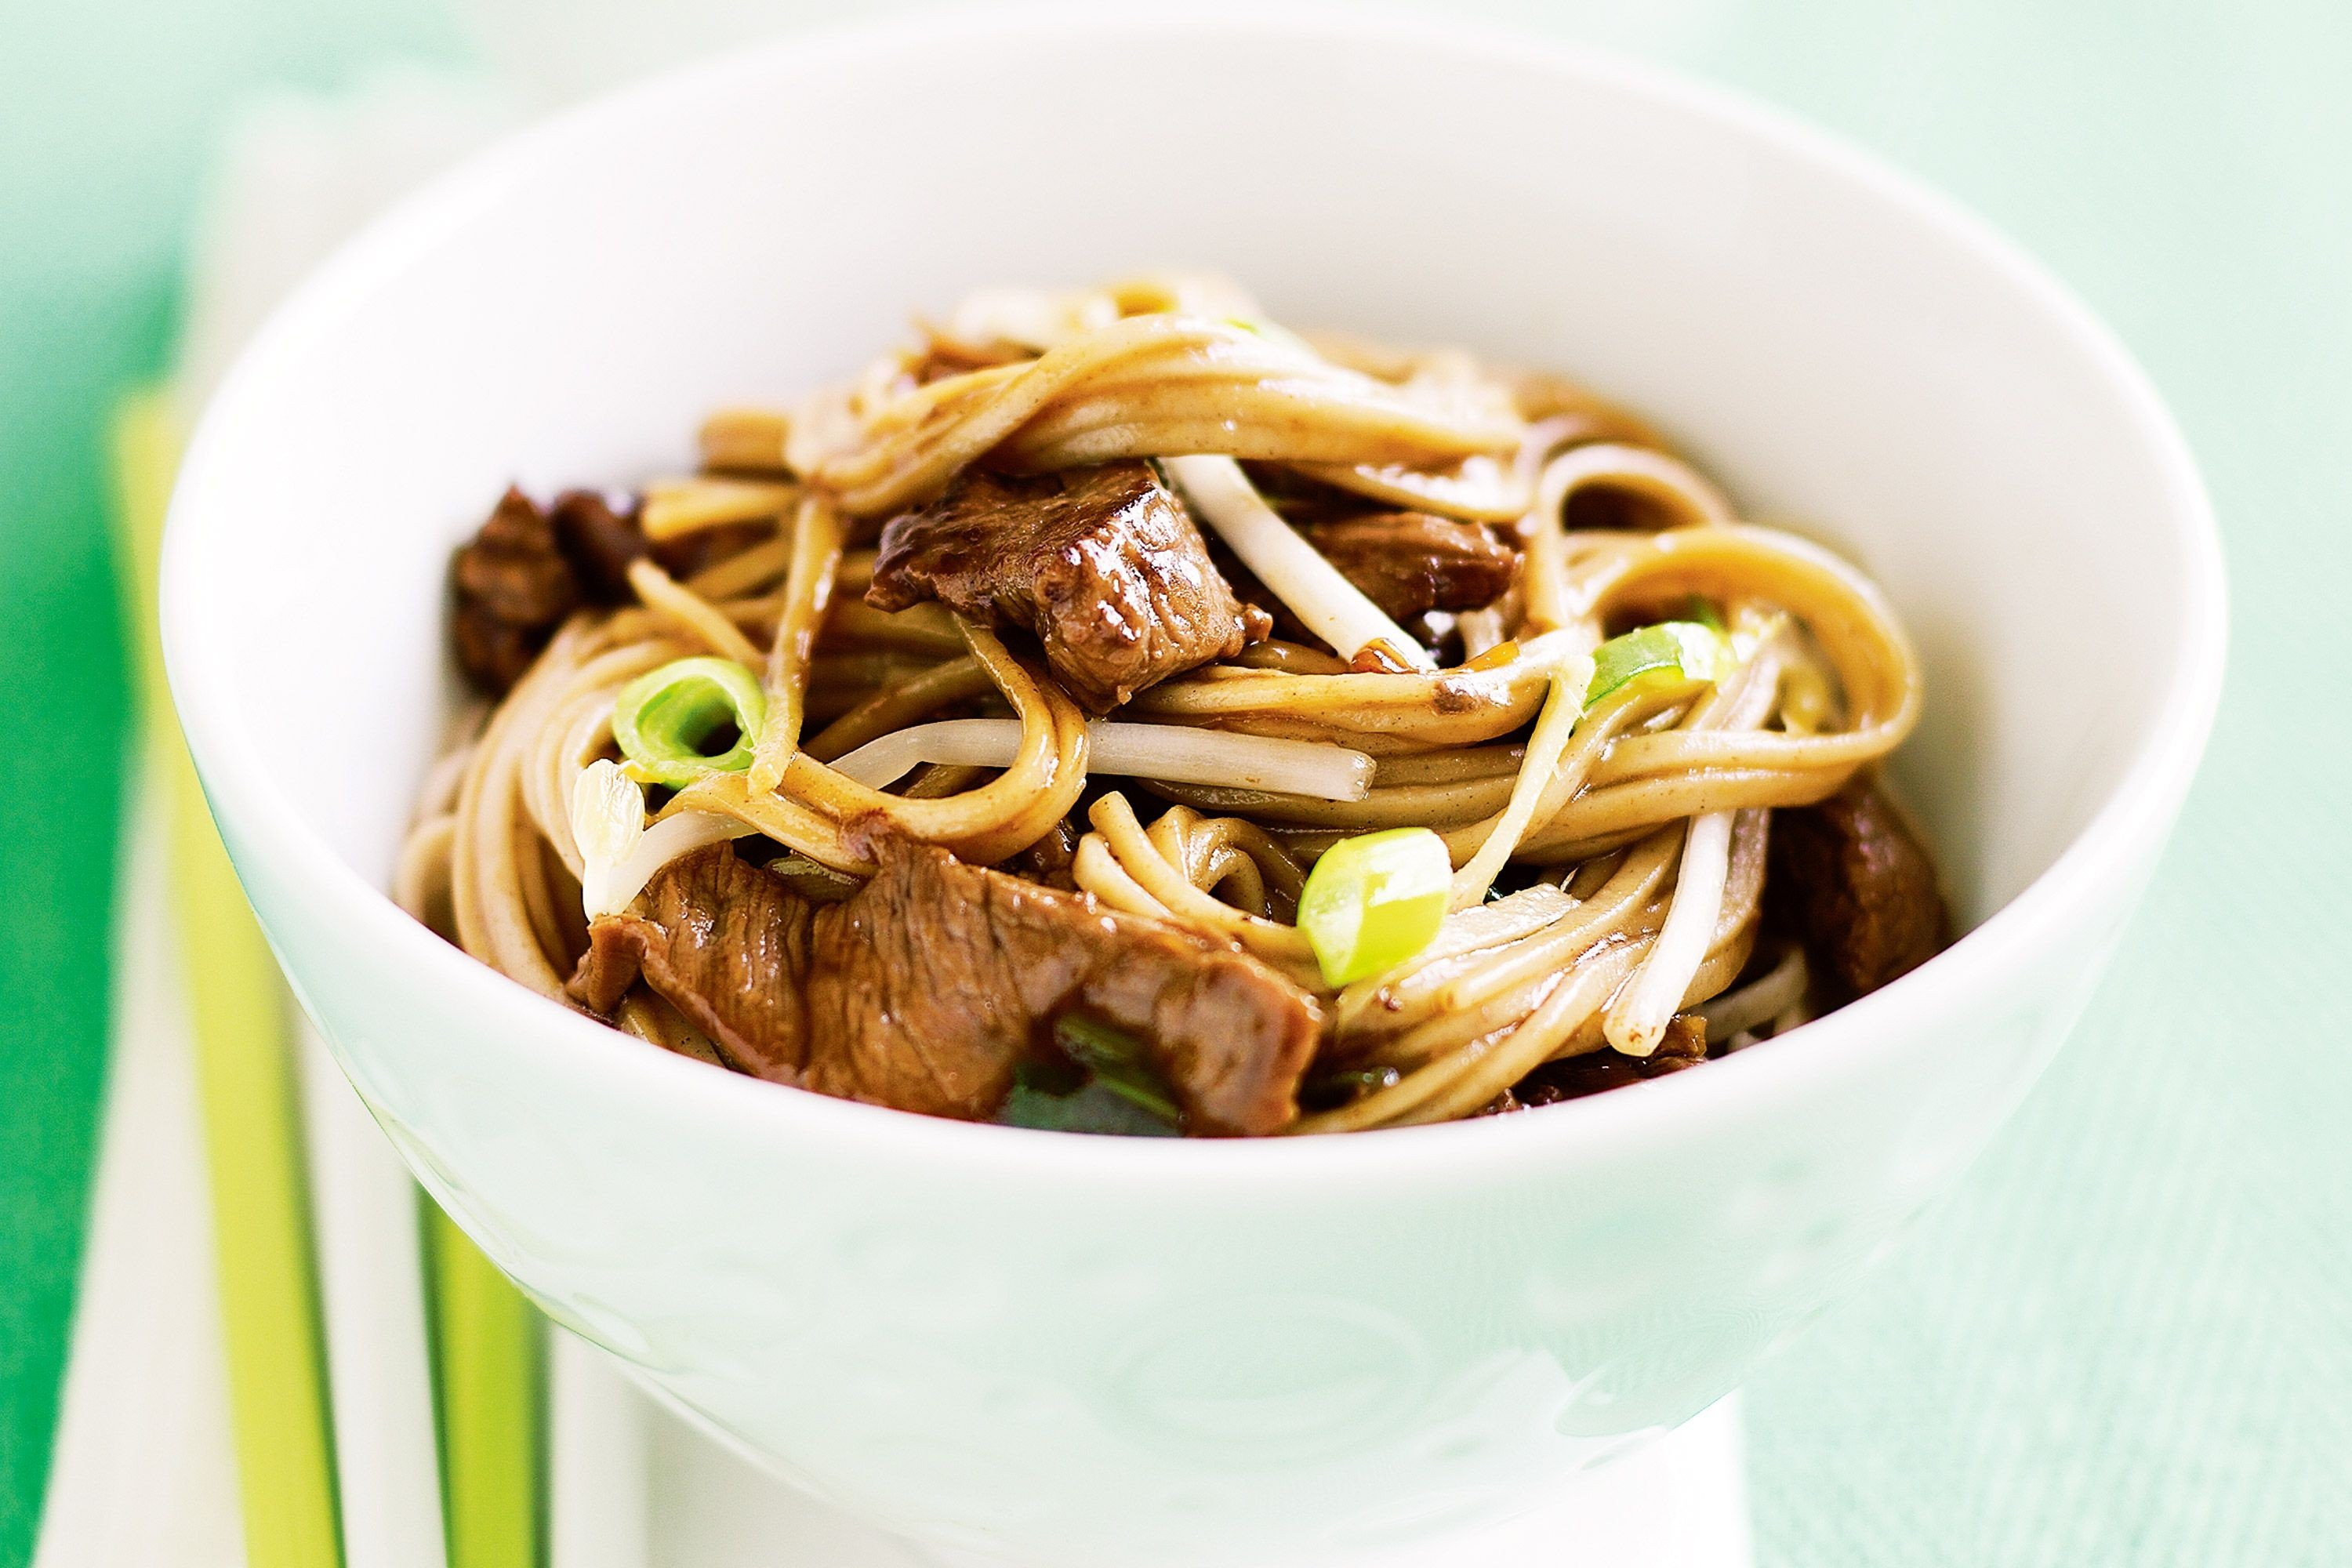Soba: (401, 269, 1986, 1145)
